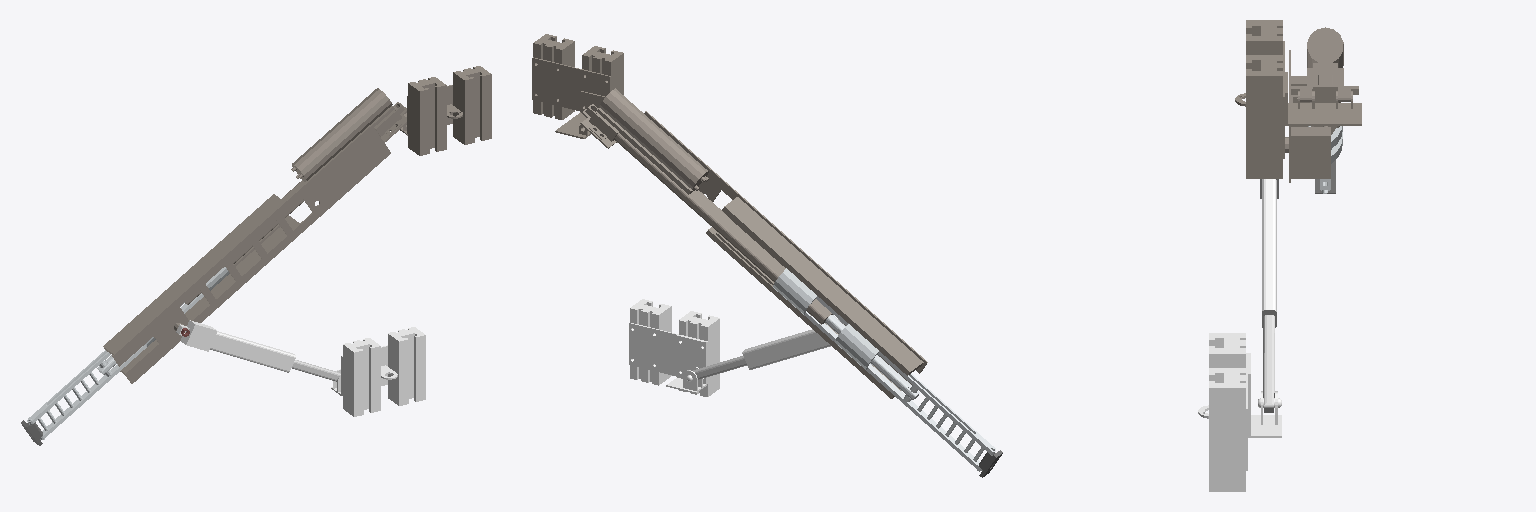
URDF robot description (krys_urdf2):
<?xml version="1.0" encoding="utf-8"?>
<!-- This URDF was automatically created by SolidWorks to URDF Exporter! Originally created by [author] ([email redacted]) 
     Commit Version: 1.6.0-4-g7f85cfe  Build Version: 1.6.7995.38578
     For more information, please see http://wiki.ros.org/sw_urdf_exporter -->
<robot
  name="krys_urdf2">
  <link
    name="base_link">
    <inertial>
      <origin
        xyz="-0.00027833 -0.00035529 0.28058"
        rpy="0 0 0" />
      <mass
        value="241.11" />
      <inertia
        ixx="11.815"
        ixy="-6.2754E-07"
        ixz="1.9106E-08"
        iyy="11.817"
        iyz="-3.6365E-06"
        izz="3.1907" />
    </inertial>
    <visual>
      <origin
        xyz="0 0 0"
        rpy="0 0 0" />
      <geometry>
        <mesh
          filename="package://krys_urdf2/meshes/base_link.STL" />
      </geometry>
      <material
        name="">
        <color
          rgba="0.65098 0.61961 0.58824 1" />
      </material>
    </visual>
    <collision>
      <origin
        xyz="0 0 0"
        rpy="0 0 0" />
      <geometry>
        <mesh
          filename="package://krys_urdf2/meshes/base_link.STL" />
      </geometry>
    </collision>
  </link>
  <link
    name="linear_act1">
    <inertial>
      <origin
        xyz="0.0014606 0.013461 -0.00098929"
        rpy="0 0 0" />
      <mass
        value="1.5094" />
      <inertia
        ixx="0.0011055"
        ixy="9.2644E-07"
        ixz="-1.8929E-07"
        iyy="0.0012926"
        iyz="-5.1182E-06"
        izz="0.00043431" />
    </inertial>
    <visual>
      <origin
        xyz="0 0 0"
        rpy="0 0 0" />
      <geometry>
        <mesh
          filename="package://krys_urdf2/meshes/linear_act1.STL" />
      </geometry>
      <material
        name="">
        <color
          rgba="0.65098 0.61961 0.58824 1" />
      </material>
    </visual>
    <collision>
      <origin
        xyz="0 0 0"
        rpy="0 0 0" />
      <geometry>
        <mesh
          filename="package://krys_urdf2/meshes/linear_act1.STL" />
      </geometry>
    </collision>
  </link>
  <joint
    name="linear_joint1"
    type="prismatic">
    <origin
      xyz="0.055183 0.047931 1.1839"
      rpy="0 0 -3.1416" />
    <parent
      link="base_link" />
    <child
      link="linear_act1" />
    <axis
      xyz="0 0 1" />
    <limit
      lower="-1"
      upper="1"
      effort="0"
      velocity="0" />
  </joint>
  <link
    name="link4">
    <inertial>
      <origin
        xyz="-0.18768 -0.030083 -0.088212"
        rpy="0 0 0" />
      <mass
        value="3.0252" />
      <inertia
        ixx="0.010732"
        ixy="0.00012434"
        ixz="-0.014821"
        iyy="0.03425"
        iyz="8.2694E-05"
        izz="0.024095" />
    </inertial>
    <visual>
      <origin
        xyz="0 0 0"
        rpy="0 0 0" />
      <geometry>
        <mesh
          filename="package://krys_urdf2/meshes/link4.STL" />
      </geometry>
      <material
        name="">
        <color
          rgba="0.65098 0.61961 0.58824 1" />
      </material>
    </visual>
    <collision>
      <origin
        xyz="0 0 0"
        rpy="0 0 0" />
      <geometry>
        <mesh
          filename="package://krys_urdf2/meshes/link4.STL" />
      </geometry>
    </collision>
  </link>
  <joint
    name="joint4"
    type="revolute">
    <origin
      xyz="0.0475 -0.055712 -0.0205"
      rpy="0 0 3.1416" />
    <parent
      link="linear_act1" />
    <child
      link="link4" />
    <axis
      xyz="0 1 0" />
    <limit
      lower="-3"
      upper="3"
      effort="0"
      velocity="0" />
  </joint>
  <link
    name="link5">
    <inertial>
      <origin
        xyz="-3.042E-14 2.9976E-15 0.15375"
        rpy="0 0 0" />
      <mass
        value="0.47881" />
      <inertia
        ixx="0.0049496"
        ixy="-3.5308E-20"
        ixz="5.6074E-19"
        iyy="0.0049609"
        iyz="-1.7603E-18"
        izz="3.6427E-05" />
    </inertial>
    <visual>
      <origin
        xyz="0 0 0"
        rpy="0 0 0" />
      <geometry>
        <mesh
          filename="package://krys_urdf2/meshes/link5.STL" />
      </geometry>
      <material
        name="">
        <color
          rgba="0.89804 0.91765 0.92941 1" />
      </material>
    </visual>
    <collision>
      <origin
        xyz="0 0 0"
        rpy="0 0 0" />
      <geometry>
        <mesh
          filename="package://krys_urdf2/meshes/link5.STL" />
      </geometry>
    </collision>
  </link>
  <joint
    name="link5_joint"
    type="prismatic">
    <origin
      xyz="-0.44473 -0.023212 -0.25598"
      rpy="0 1.0164 0" />
    <parent
      link="link4" />
    <child
      link="link5" />
    <axis
      xyz="0 0 1" />
    <limit
      lower="-1"
      upper="1"
      effort="0"
      velocity="0" />
  </joint>
  <link
    name="end_effector_link">
    <inertial>
      <origin
        xyz="2.4869E-14 3.6082E-16 -0.0042612"
        rpy="0 0 0" />
      <mass
        value="0.003974" />
      <inertia
        ixx="1.2877E-07"
        ixy="-4.4636E-22"
        ixz="-4.169E-22"
        iyy="4.5237E-07"
        iyz="1.9173E-23"
        izz="4.8735E-07" />
    </inertial>
    <visual>
      <origin
        xyz="0 0 0"
        rpy="0 0 0" />
      <geometry>
        <mesh
          filename="package://krys_urdf2/meshes/end_effector_link.STL" />
      </geometry>
      <material
        name="">
        <color
          rgba="0.49804 0.49804 0.49804 1" />
      </material>
    </visual>
    <collision>
      <origin
        xyz="0 0 0"
        rpy="0 0 0" />
      <geometry>
        <mesh
          filename="package://krys_urdf2/meshes/end_effector_link.STL" />
      </geometry>
    </collision>
  </link>
  <joint
    name="endeffector_joint"
    type="revolute">
    <origin
      xyz="0.00057642 0 -0.1235"
      rpy="-3.1416 0 3.1416" />
    <parent
      link="link5" />
    <child
      link="end_effector_link" />
    <axis
      xyz="-1 0 0" />
    <limit
      lower="-3"
      upper="3"
      effort="0"
      velocity="0" />
  </joint>
  <link
    name="linear_act2">
    <inertial>
      <origin
        xyz="0 0 0"
        rpy="0 0 0" />
      <mass
        value="0" />
      <inertia
        ixx="0"
        ixy="0"
        ixz="0"
        iyy="0"
        iyz="0"
        izz="0" />
    </inertial>
    <visual>
      <origin
        xyz="0 0 0"
        rpy="0 0 0" />
      <geometry>
        <mesh
          filename="package://krys_urdf2/meshes/linear_act2.STL" />
      </geometry>
      <material
        name="">
        <color
          rgba="1 1 1 1" />
      </material>
    </visual>
    <collision>
      <origin
        xyz="0 0 0"
        rpy="0 0 0" />
      <geometry>
        <mesh
          filename="package://krys_urdf2/meshes/linear_act2.STL" />
      </geometry>
    </collision>
  </link>
  <joint
    name="linear_joint2"
    type="prismatic">
    <origin
      xyz="-0.059817 0.017931 0.85103"
      rpy="0 0 0" />
    <parent
      link="base_link" />
    <child
      link="linear_act2" />
    <axis
      xyz="0 0 -1" />
    <limit
      lower="-1"
      upper="1"
      effort="0"
      velocity="0" />
  </joint>
  <link
    name="rod_link">
    <inertial>
      <origin
        xyz="0.069844 -0.010465 -0.035734"
        rpy="0 0 0" />
      <mass
        value="0.13877" />
      <inertia
        ixx="6.415E-05"
        ixy="4.3588E-12"
        ixz="0.00011921"
        iyy="0.00029542"
        iyz="-3.1075E-12"
        izz="0.00023335" />
    </inertial>
    <visual>
      <origin
        xyz="0 0 0"
        rpy="0 0 0" />
      <geometry>
        <mesh
          filename="package://krys_urdf2/meshes/rod_link.STL" />
      </geometry>
      <material
        name="">
        <color
          rgba="0.89804 0.89804 0.89804 1" />
      </material>
    </visual>
    <collision>
      <origin
        xyz="0 0 0"
        rpy="0 0 0" />
      <geometry>
        <mesh
          filename="package://krys_urdf2/meshes/rod_link.STL" />
      </geometry>
    </collision>
  </link>
  <joint
    name="rod_joint"
    type="revolute">
    <origin
      xyz="-0.044 0.027465 -0.012155"
      rpy="3.1416 0 3.1416" />
    <parent
      link="linear_act2" />
    <child
      link="rod_link" />
    <axis
      xyz="0 -1 0" />
    <limit
      lower="-3"
      upper="3"
      effort="0"
      velocity="0" />
  </joint>
  <link
    name="barrel_link">
    <inertial>
      <origin
        xyz="0.032934 -0.0059385 -0.017013"
        rpy="0 0 0" />
      <mass
        value="0.045457" />
      <inertia
        ixx="2.9834E-05"
        ixy="-1.8355E-07"
        ixz="4.9972E-05"
        iyy="0.00012915"
        iyz="9.4816E-08"
        izz="0.00010076" />
    </inertial>
    <visual>
      <origin
        xyz="0 0 0"
        rpy="0 0 0" />
      <geometry>
        <mesh
          filename="package://krys_urdf2/meshes/barrel_link.STL" />
      </geometry>
      <material
        name="">
        <color
          rgba="1 1 1 0.32" />
      </material>
    </visual>
    <collision>
      <origin
        xyz="0 0 0"
        rpy="0 0 0" />
      <geometry>
        <mesh
          filename="package://krys_urdf2/meshes/barrel_link.STL" />
      </geometry>
    </collision>
  </link>
  <joint
    name="barrel_joint"
    type="prismatic">
    <origin
      xyz="0.135973968895168 -0.00446514539888075 -0.0698936287062597"
      rpy="0 0 0" />
    <parent
      link="rod_link" />
    <child
      link="barrel_link" />
    <axis
      xyz="0.888464694121165 0 -0.458944971973966" />
    <limit
      lower="-1"
      upper="1"
      effort="0"
      velocity="0" />
  </joint>
  <link
    name="link3">
    <inertial>
      <origin
        xyz="-1.2141E-05 0.0025004 -5.9644E-05"
        rpy="0 0 0" />
      <mass
        value="0.0025159" />
      <inertia
        ixx="2.8785E-08"
        ixy="-1.7842E-13"
        ixz="2.5002E-12"
        iyy="4.7098E-08"
        iyz="-3.9754E-13"
        izz="2.8793E-08" />
    </inertial>
    <visual>
      <origin
        xyz="0 0 0"
        rpy="0 0 0" />
      <geometry>
        <mesh
          filename="package://krys_urdf2/meshes/link3.STL" />
      </geometry>
      <material
        name="">
        <color
          rgba="0.53725 0.34902 0.33725 1" />
      </material>
    </visual>
    <collision>
      <origin
        xyz="0 0 0"
        rpy="0 0 0" />
      <geometry>
        <mesh
          filename="package://krys_urdf2/meshes/link3.STL" />
      </geometry>
    </collision>
  </link>
  <joint
    name="linkl3_joint"
    type="revolute">
    <origin
      xyz="0.0986332868458225 -0.0114999999999951 -0.050883290902993"
      rpy="0 0 0" />
    <parent
      link="barrel_link" />
    <child
      link="link3" />
    <axis
      xyz="0 -1 0" />
    <limit
      lower="-3"
      upper="3"
      effort="0"
      velocity="0" />
  </joint>
</robot>

--- What the picture shows (computed from the rendered views, not written in the file) ---
The picture shows the robot from 3 angles, left to right: view 1: azimuth 30°, elevation 25°; view 2: azimuth 150°, elevation 25°; view 3: azimuth 270°, elevation 25°; orthographic projection.
Robot: krys_urdf2 — 9 links, 8 joints (4 revolute, 4 prismatic); root link base_link; default pose: every joint at zero.
Visible links, largest first — view 1: link4, linear_act2, linear_act1, link5, barrel_link; view 2: link4, linear_act2, linear_act1, link5, barrel_link, rod_link; view 3: linear_act1, linear_act2, link4, barrel_link, rod_link.
Link boxes in pixels (bbox=[...]): link4: bbox=[103, 88, 406, 383]; linear_act2: bbox=[331, 327, 425, 416]; linear_act1: bbox=[396, 66, 491, 155]; link5: bbox=[27, 267, 229, 439]; barrel_link: bbox=[176, 320, 295, 372]; link4: bbox=[580, 88, 927, 398]; linear_act2: bbox=[629, 299, 719, 396]; linear_act1: bbox=[532, 34, 623, 138]; link5: bbox=[773, 268, 995, 471]; barrel_link: bbox=[742, 319, 843, 369]; rod_link: bbox=[693, 356, 746, 379]; linear_act1: bbox=[1235, 20, 1361, 178]; linear_act2: bbox=[1198, 333, 1281, 491]; link4: bbox=[1285, 27, 1358, 182]; barrel_link: bbox=[1260, 179, 1278, 327]; rod_link: bbox=[1263, 315, 1274, 412].
Bounding box of the posed robot: 0.6601 × 0.1326 × 0.4251 m (x, y, z).
Meshes: 9 distinct files referenced, 8 mesh visuals loaded (8 binary STL); not drawn: 1 (reference not matched to a file when rendering).
